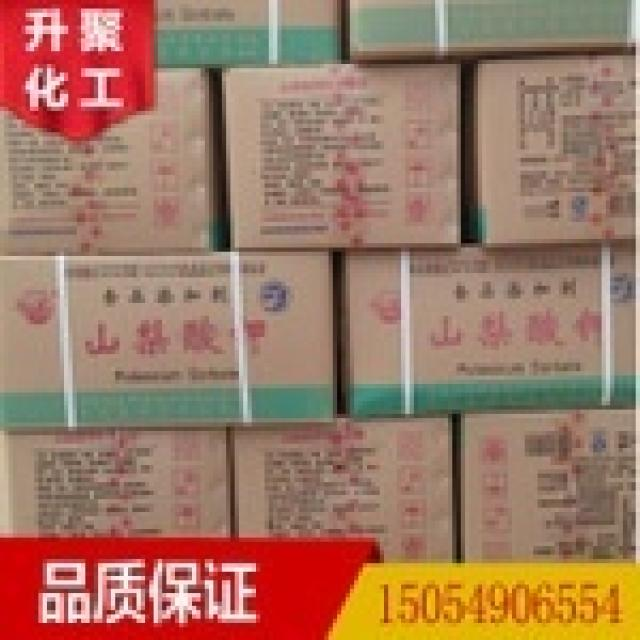box: (0, 252, 337, 435), (341, 243, 640, 418), (222, 60, 465, 247), (0, 68, 226, 260), (474, 51, 640, 247), (235, 422, 457, 563), (461, 410, 640, 563), (346, 0, 640, 64), (154, 0, 346, 64)
